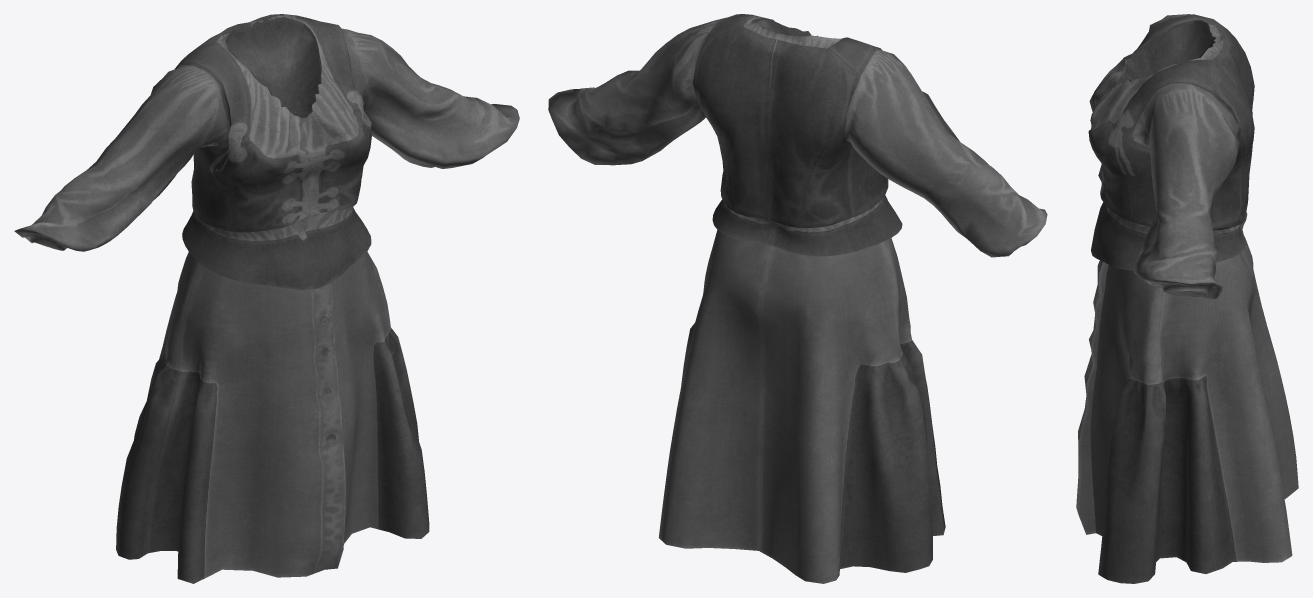
File: sk_dwarf_dress_normal_d.fbx
3 views of the same model, side by side, from view 1: azimuth 30°, elevation 25°; view 2: azimuth 150°, elevation 25°; view 3: azimuth 270°, elevation 25° (orthographic). The views are drawn at different scales.
Parts seen in each view (by area): view 1: sk_dwarf_dress_normal_d.1, sk_dwarf_dress_normal_d.0; view 2: sk_dwarf_dress_normal_d.1, sk_dwarf_dress_normal_d.0; view 3: sk_dwarf_dress_normal_d.1, sk_dwarf_dress_normal_d.0.
Boxes of the visible parts, x1=… form: sk_dwarf_dress_normal_d.1: x1=116, y1=251, x2=429, y2=583; sk_dwarf_dress_normal_d.0: x1=14, y1=14, x2=519, y2=289; sk_dwarf_dress_normal_d.1: x1=658, y1=230, x2=945, y2=583; sk_dwarf_dress_normal_d.0: x1=548, y1=14, x2=1047, y2=257; sk_dwarf_dress_normal_d.1: x1=1076, y1=241, x2=1298, y2=583; sk_dwarf_dress_normal_d.0: x1=1088, y1=14, x2=1254, y2=299.
Size of the model in its own units: 1.26 by 0.5049 by 1.23.
2 materials, 2 textured.
